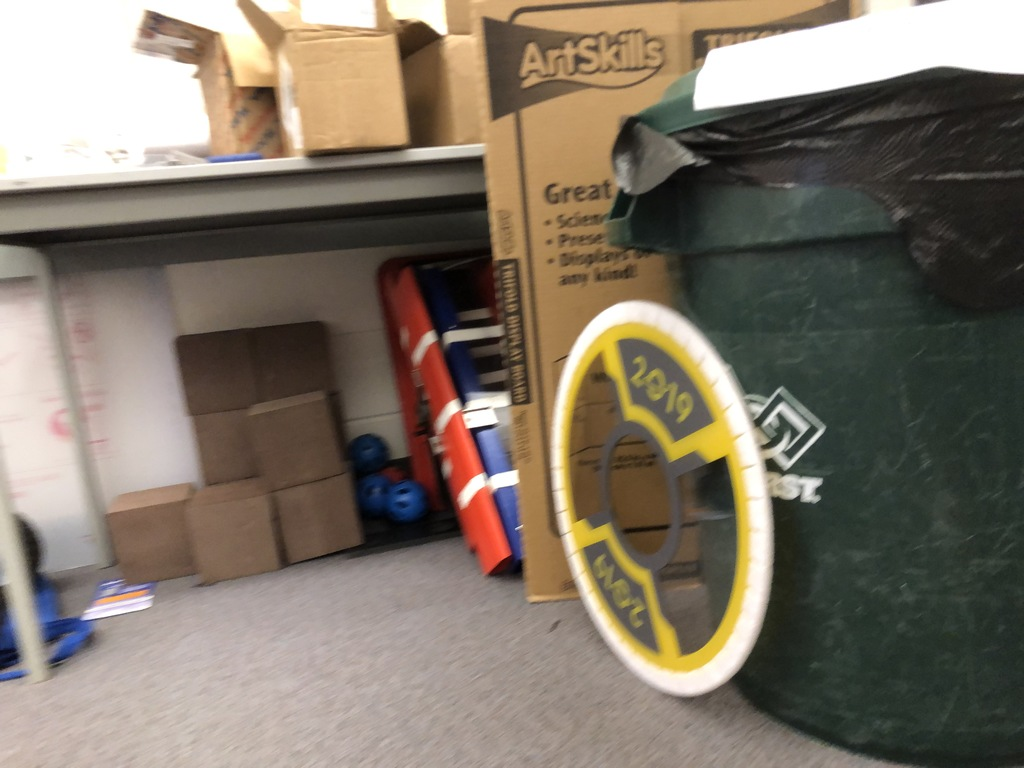hatch_panel: (540, 271, 795, 711)
